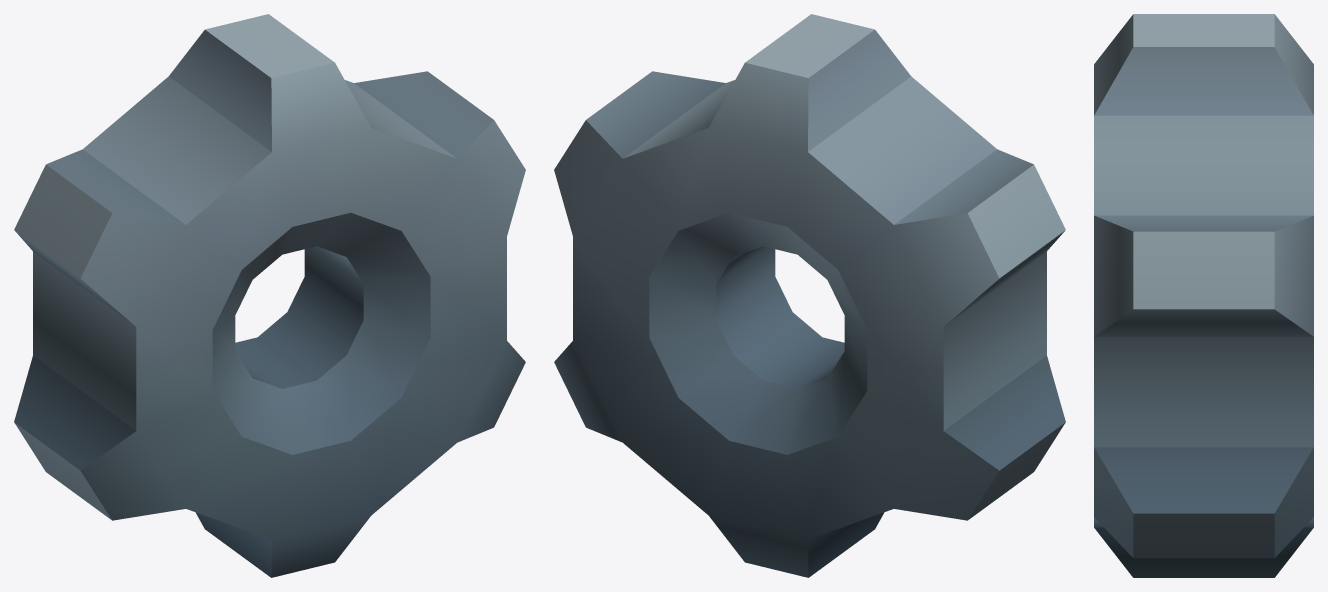
Rendered from parts-cog.glb.
The picture shows the model from 3 angles, left to right: view 1: azimuth 30°, elevation 25°; view 2: azimuth 150°, elevation 25°; view 3: azimuth 270°, elevation 25°; orthographic projection. The views are drawn at different scales.
Visible parts, largest first — view 1: Parts_Cog; view 2: Parts_Cog; view 3: Parts_Cog.
Part boxes in pixels (left/top/right/bottom): Parts_Cog: left=14, top=14, right=525, bottom=577; Parts_Cog: left=554, top=14, right=1065, bottom=577; Parts_Cog: left=1094, top=14, right=1313, bottom=577.
Size of the model in its own units: 0.3731 by 0.4 by 0.15.
Materials: 1 (1 with a texture image).
